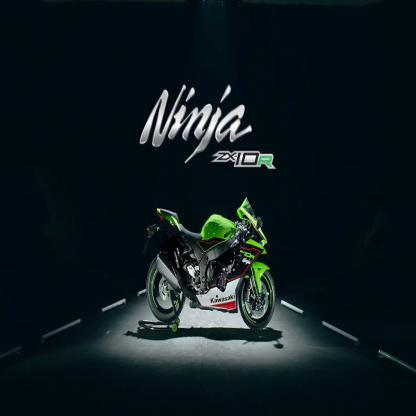Motorcycle: (139, 195, 277, 340)
